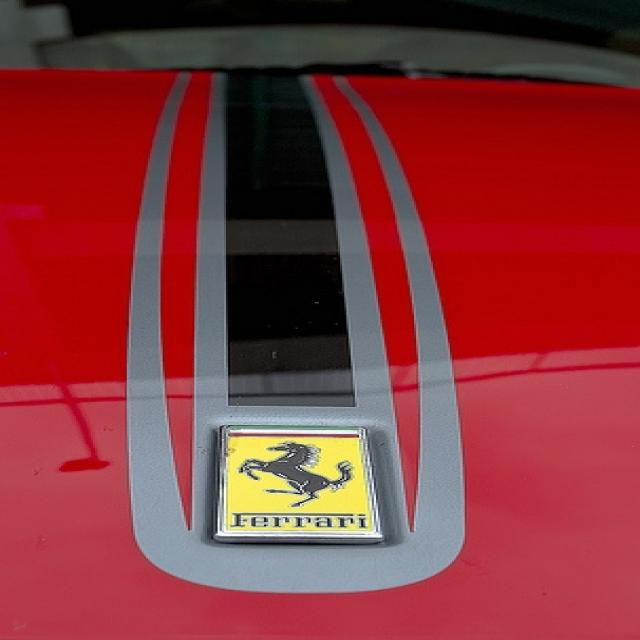ferrari: (223, 430, 383, 537)
